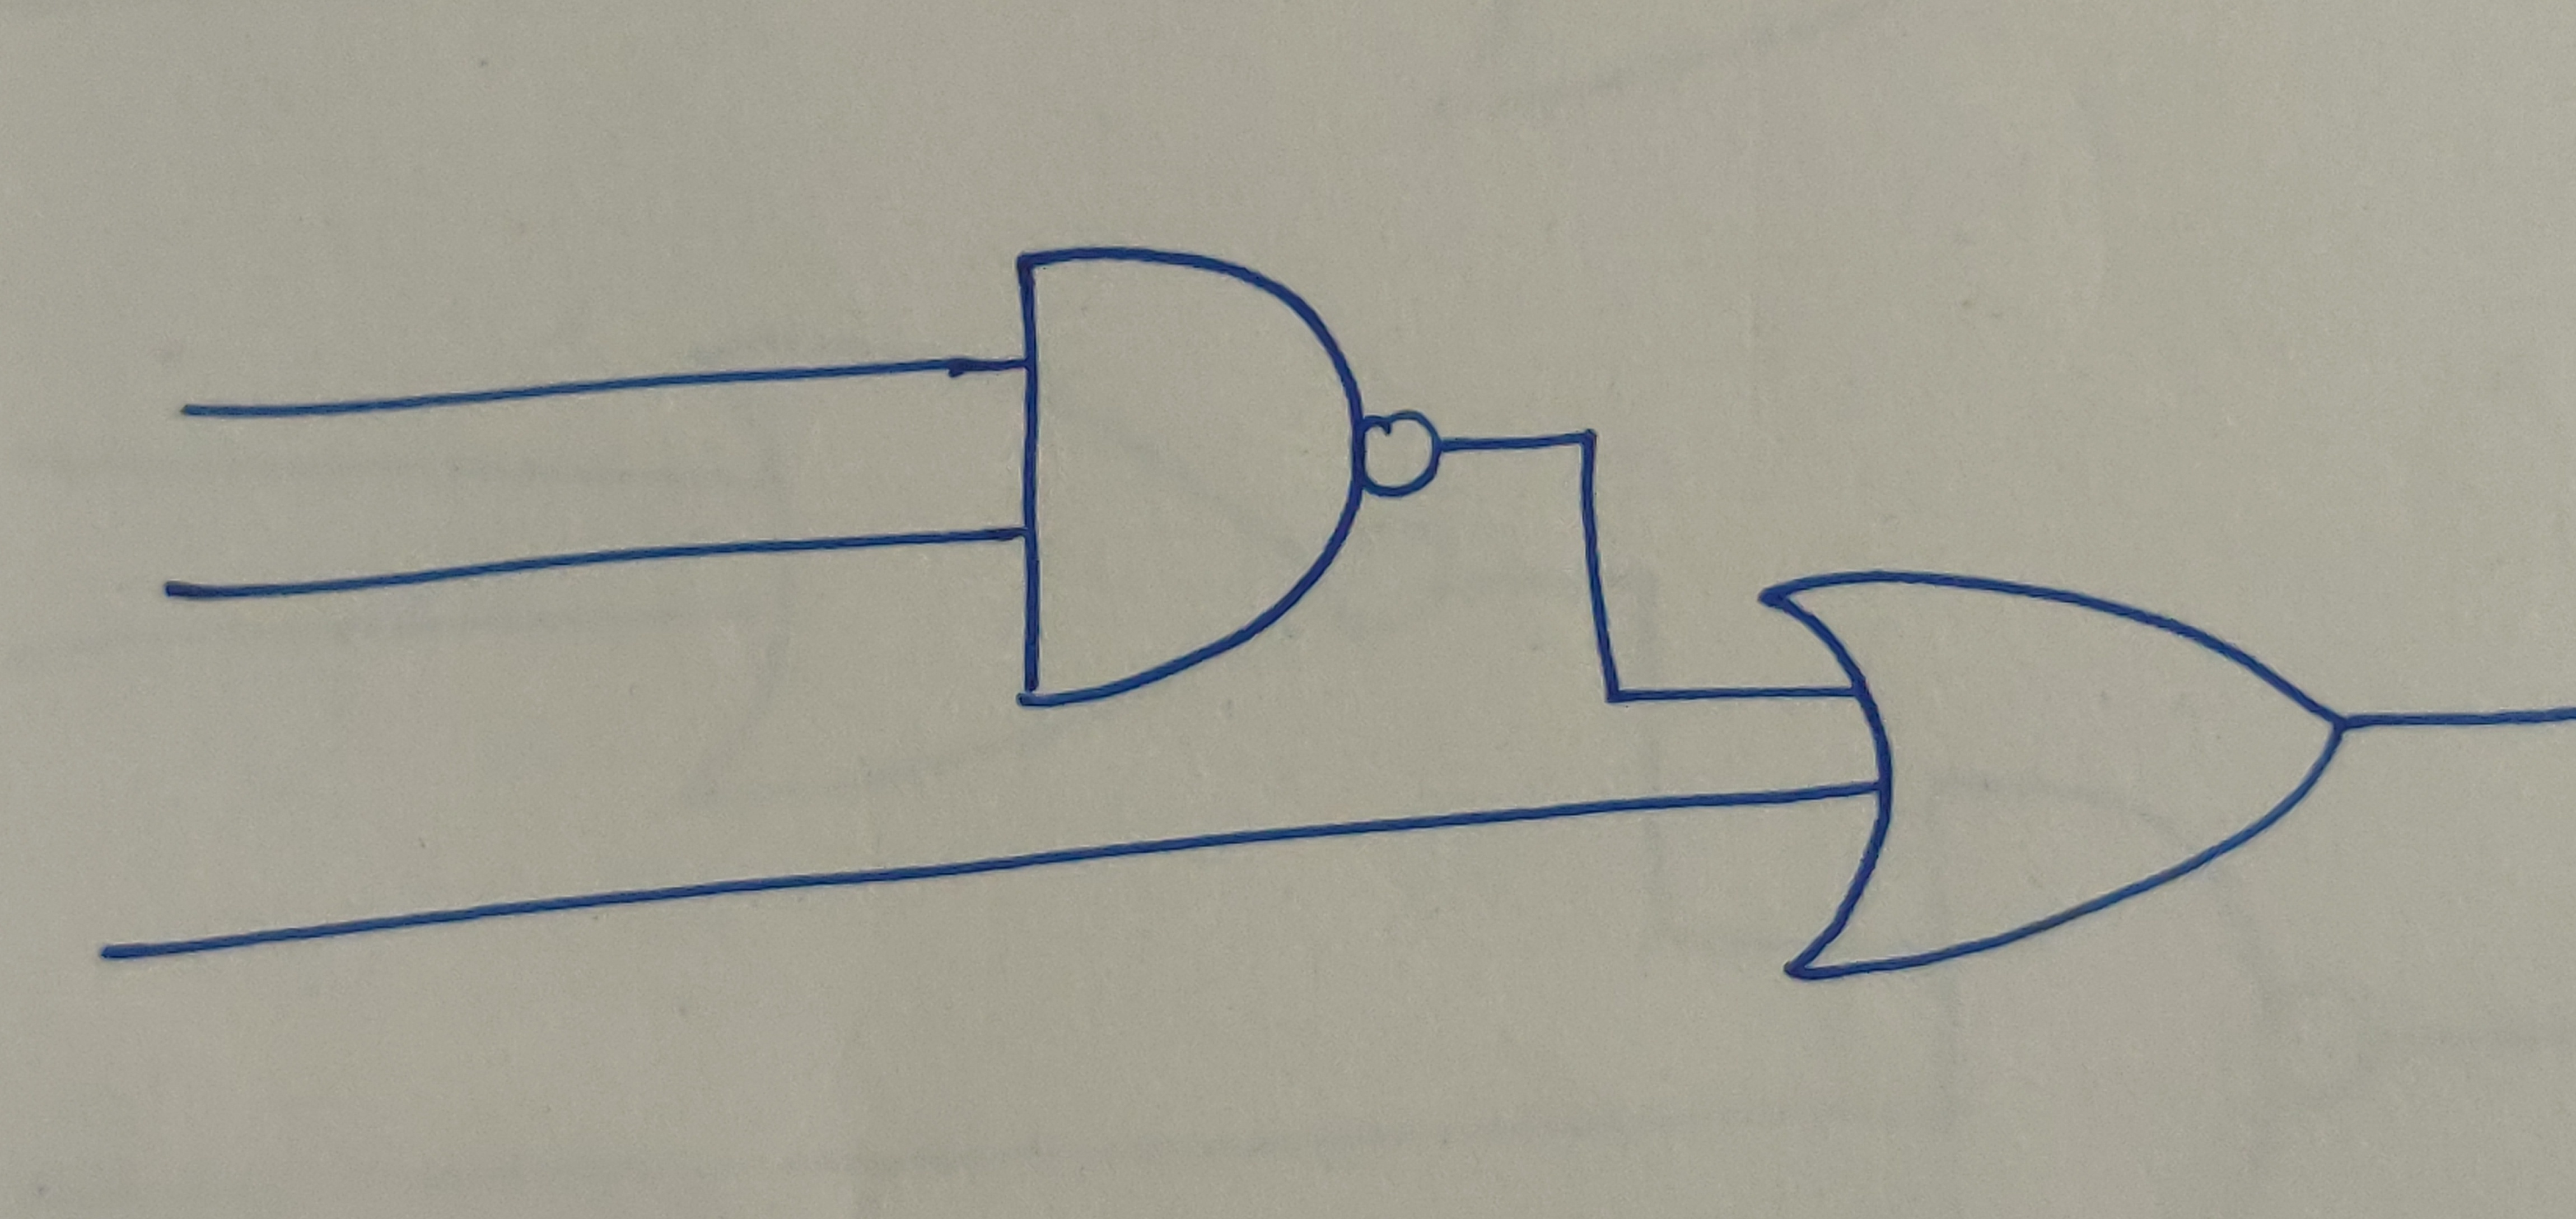and: (1007, 240, 1370, 708)
not: (1360, 406, 1449, 508)
or: (1750, 567, 2349, 989)
